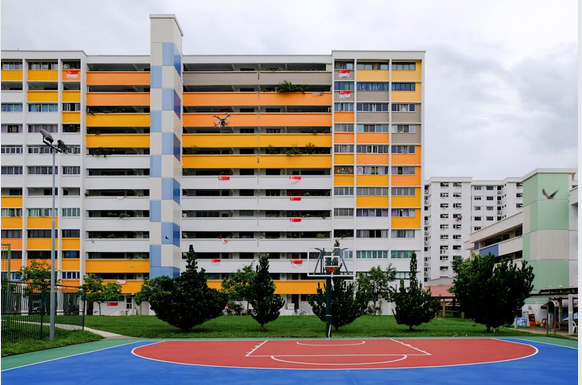drone_other: (212, 111, 231, 129)
